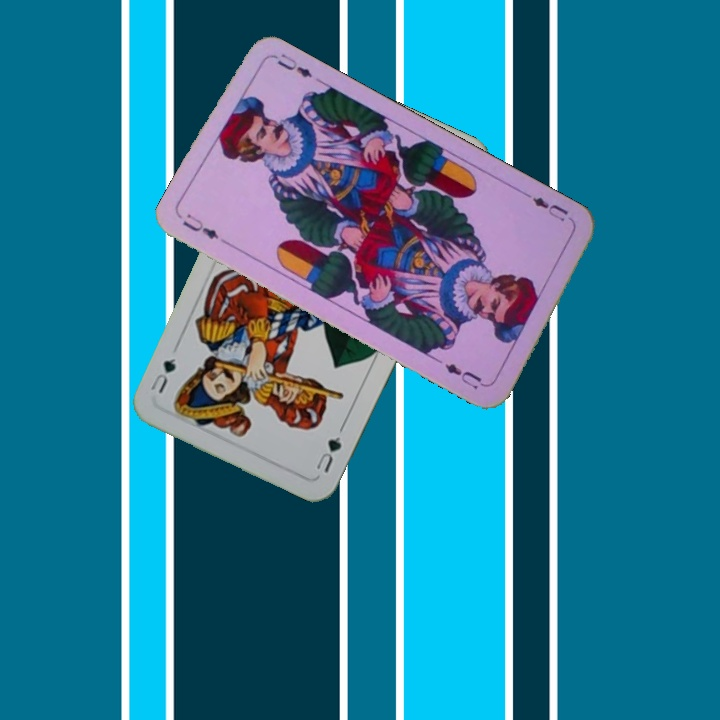EU: (178, 209, 222, 242), (528, 192, 571, 225)
GU: (312, 432, 345, 476)
